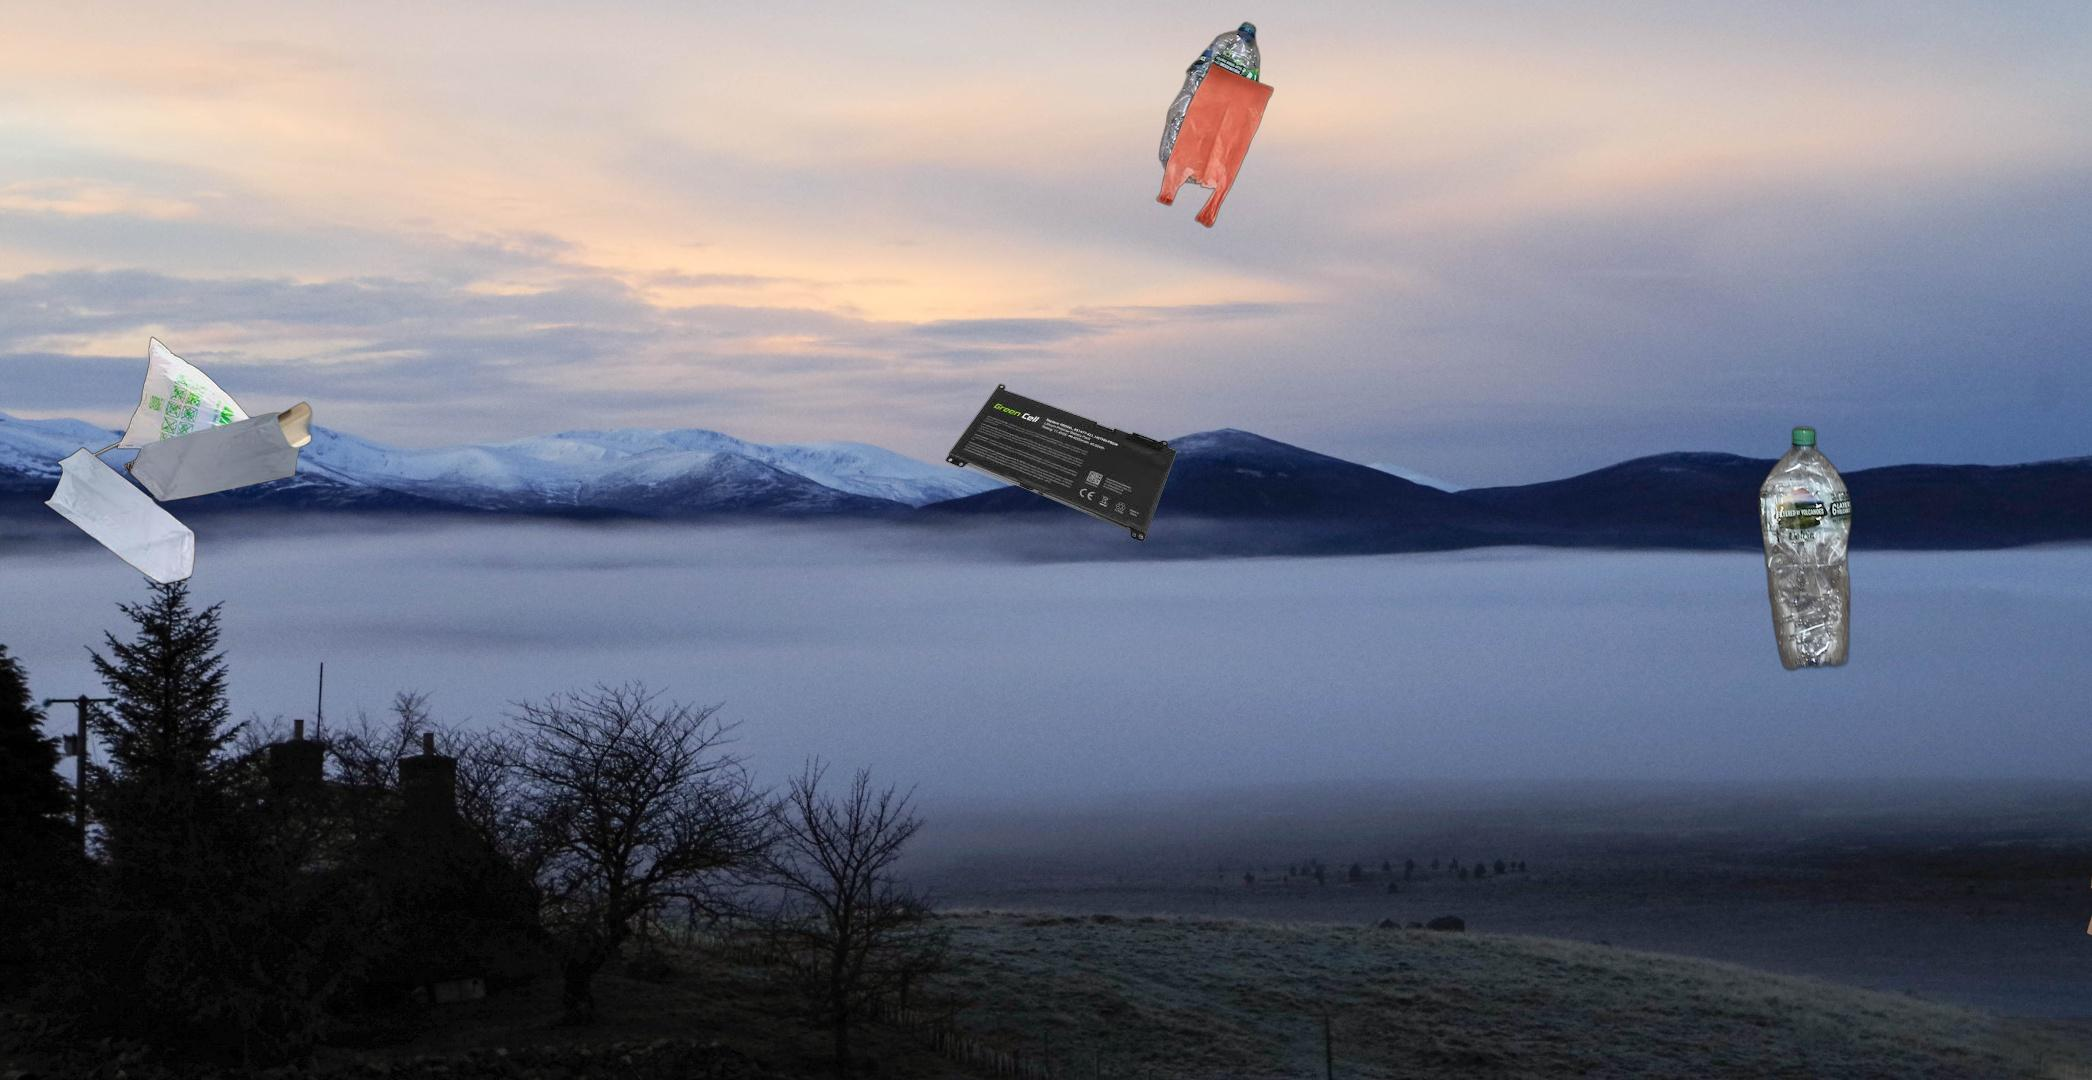battery: (943, 382, 1180, 546)
paper-bag: (2085, 763, 2092, 986)
plastic-bag: (43, 335, 315, 587), (1154, 59, 1277, 230)
plastic-bottles: (1755, 420, 1856, 676), (1155, 18, 1264, 187)
trashbox-cardboard: (1883, 1017, 2092, 1080)
